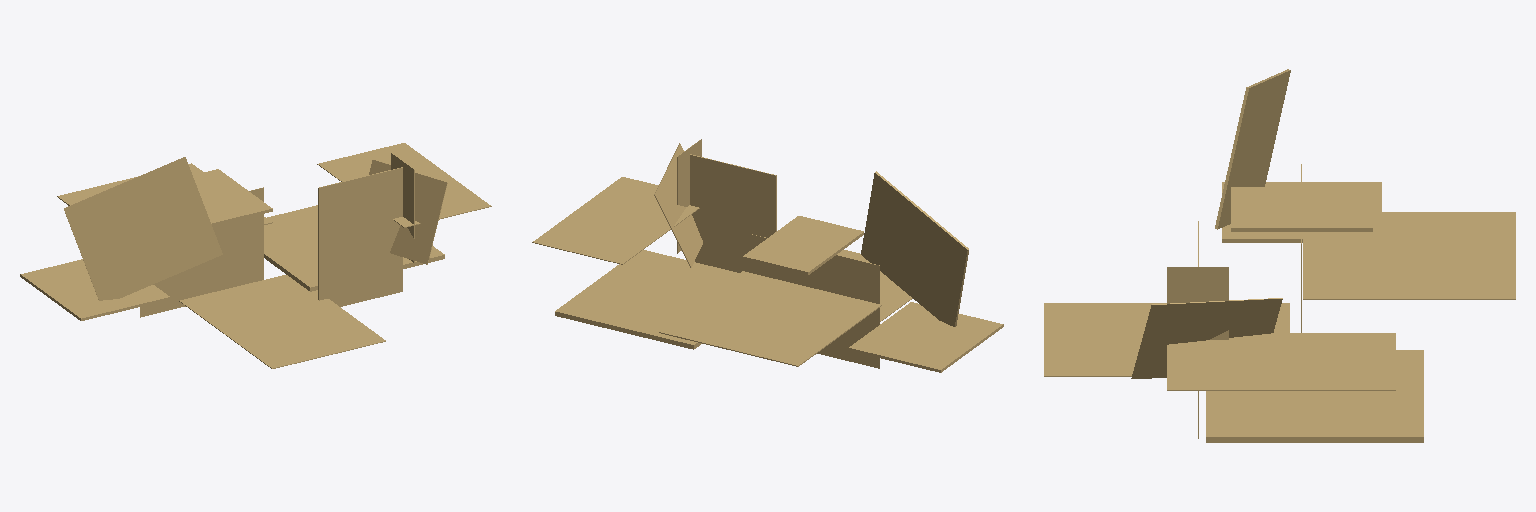
robot.urdf — evolved_design:
<?xml version="1.0" ?>
<robot name="evolved_design">
  <link name="base_link">
    <inertial>
      <mass value="0.001"/>
      <origin xyz="0 0 0" rpy="0 0 0"/>
      <inertia ixx="0.000001" ixy="0" ixz="0" iyy="0.000001" iyz="0" izz="0.000001"/>
    </inertial>
  </link>
  <link name="link_comp_0">
    <inertial>
      <mass value="0.768596"/>
      <origin xyz="0 0 0" rpy="0 0 0"/>
      <inertia ixx="0.034113626" ixy="0" ixz="0" iyy="0.017103133" iyz="0" izz="0.051215608"/>
    </inertial>
    <visual>
      <origin xyz="0 0 0" rpy="0 0 0"/>
      <geometry>
        <box size="0.516740 0.729796 0.002997"/>
      </geometry>
      <material name="link_comp_0_material">
        <color rgba="0.8 0.7 0.5 1"/>
      </material>
    </visual>
    <collision>
      <origin xyz="0 0 0" rpy="0 0 0"/>
      <geometry>
        <box size="0.516740 0.729796 0.002997"/>
      </geometry>
    </collision>
  </link>
  <joint name="base_link_to_link_comp_0" type="fixed">
    <parent link="base_link"/>
    <child link="link_comp_0"/>
    <origin xyz="0.301073 0.332235 0.048588" rpy="0.000000 0.000000 0.000000"/>
  </joint>
  <link name="link_comp_1">
    <inertial>
      <mass value="0.658332"/>
      <origin xyz="0 0 0" rpy="0 0 0"/>
      <inertia ixx="0.015854358" ixy="0" ixz="0" iyy="0.023740530" iyz="0" izz="0.007888647"/>
    </inertial>
    <visual>
      <origin xyz="0 0 0" rpy="0 0 0"/>
      <geometry>
        <box size="0.379171 0.004750 0.537558"/>
      </geometry>
      <material name="link_comp_1_material">
        <color rgba="0.8 0.7 0.5 1"/>
      </material>
    </visual>
    <collision>
      <origin xyz="0 0 0" rpy="0 0 0"/>
      <geometry>
        <box size="0.379171 0.004750 0.537558"/>
      </geometry>
    </collision>
  </link>
  <joint name="base_link_to_link_comp_1" type="fixed">
    <parent link="base_link"/>
    <child link="link_comp_1"/>
    <origin xyz="0.706825 0.424635 0.268779" rpy="0.000000 0.000000 0.000000"/>
  </joint>
  <link name="link_comp_2">
    <inertial>
      <mass value="0.521573"/>
      <origin xyz="0 0 0" rpy="0 0 0"/>
      <inertia ixx="0.008094898" ixy="0" ixz="0" iyy="0.021715280" iyz="0" izz="0.013621258"/>
    </inertial>
    <visual>
      <origin xyz="0 0 0" rpy="0 0 0"/>
      <geometry>
        <box size="0.559803 0.003175 0.431546"/>
      </geometry>
      <material name="link_comp_2_material">
        <color rgba="0.8 0.7 0.5 1"/>
      </material>
    </visual>
    <collision>
      <origin xyz="0 0 0" rpy="0 0 0"/>
      <geometry>
        <box size="0.559803 0.003175 0.431546"/>
      </geometry>
    </collision>
  </link>
  <joint name="base_link_to_link_comp_2" type="fixed">
    <parent link="base_link"/>
    <child link="link_comp_2"/>
    <origin xyz="0.166134 0.731884 0.215773" rpy="0.000000 0.000000 0.000000"/>
  </joint>
  <link name="link_comp_3">
    <inertial>
      <mass value="1.053972"/>
      <origin xyz="0 0 0" rpy="0 0 0"/>
      <inertia ixx="0.015850476" ixy="0" ixz="0" iyy="0.007269775" iyz="0" izz="0.023091918"/>
    </inertial>
    <visual>
      <origin xyz="0 0 0" rpy="0 0 0"/>
      <geometry>
        <box size="0.287417 0.424623 0.012700"/>
      </geometry>
      <material name="link_comp_3_material">
        <color rgba="0.8 0.7 0.5 1"/>
      </material>
    </visual>
    <collision>
      <origin xyz="0 0 0" rpy="0 0 0"/>
      <geometry>
        <box size="0.287417 0.424623 0.012700"/>
      </geometry>
    </collision>
  </link>
  <joint name="base_link_to_link_comp_3" type="fixed">
    <parent link="base_link"/>
    <child link="link_comp_3"/>
    <origin xyz="0.220309 0.732444 0.438396" rpy="0.000000 0.000000 0.000000"/>
  </joint>
  <link name="link_comp_4">
    <inertial>
      <mass value="0.102988"/>
      <origin xyz="0 0 0" rpy="0 0 0"/>
      <inertia ixx="0.001696381" ixy="0" ixz="0" iyy="0.001405224" iyz="0" izz="0.000291228"/>
    </inertial>
    <visual>
      <origin xyz="0 0 0" rpy="0 0 0"/>
      <geometry>
        <box size="0.002032 0.184199 0.404636"/>
      </geometry>
      <material name="link_comp_4_material">
        <color rgba="0.8 0.7 0.5 1"/>
      </material>
    </visual>
    <collision>
      <origin xyz="0 0 0" rpy="0 0 0"/>
      <geometry>
        <box size="0.002032 0.184199 0.404636"/>
      </geometry>
    </collision>
  </link>
  <joint name="base_link_to_link_comp_4" type="fixed">
    <parent link="base_link"/>
    <child link="link_comp_4"/>
    <origin xyz="0.897927 0.424789 0.362100" rpy="0.000000 0.000000 0.000000"/>
  </joint>
  <link name="link_comp_5">
    <inertial>
      <mass value="1.179324"/>
      <origin xyz="0 0 0" rpy="0 0 0"/>
      <inertia ixx="0.039356623" ixy="0" ixz="0" iyy="0.036522899" iyz="0" izz="0.075875550"/>
    </inertial>
    <visual>
      <origin xyz="0 0 0" rpy="0 0 0"/>
      <geometry>
        <box size="0.609600 0.632808 0.004496"/>
      </geometry>
      <material name="link_comp_5_material">
        <color rgba="0.8 0.7 0.5 1"/>
      </material>
    </visual>
    <collision>
      <origin xyz="0 0 0" rpy="0 0 0"/>
      <geometry>
        <box size="0.609600 0.632808 0.004496"/>
      </geometry>
    </collision>
  </link>
  <joint name="base_link_to_link_comp_5" type="fixed">
    <parent link="base_link"/>
    <child link="link_comp_5"/>
    <origin xyz="0.181850 1.050376 0.267793" rpy="0.000000 0.000000 0.000000"/>
  </joint>
  <link name="link_comp_6">
    <inertial>
      <mass value="1.564937"/>
      <origin xyz="0 0 0" rpy="0 0 0"/>
      <inertia ixx="0.029473396" ixy="0" ixz="0" iyy="0.021295327" iyz="0" izz="0.050731235"/>
    </inertial>
    <visual>
      <origin xyz="0 0 0" rpy="0 0 0"/>
      <geometry>
        <box size="0.403918 0.475247 0.011989"/>
      </geometry>
      <material name="link_comp_6_material">
        <color rgba="0.8 0.7 0.5 1"/>
      </material>
    </visual>
    <collision>
      <origin xyz="0 0 0" rpy="0 0 0"/>
      <geometry>
        <box size="0.403918 0.475247 0.011989"/>
      </geometry>
    </collision>
  </link>
  <joint name="base_link_to_link_comp_6" type="fixed">
    <parent link="base_link"/>
    <child link="link_comp_6"/>
    <origin xyz="-0.316227 0.732447 0.178403" rpy="0.000000 0.000000 0.000000"/>
  </joint>
  <link name="link_comp_7">
    <inertial>
      <mass value="0.291925"/>
      <origin xyz="0 0 0" rpy="0 0 0"/>
      <inertia ixx="0.006711573" ixy="0" ixz="0" iyy="0.002691589" iyz="0" izz="0.004020474"/>
    </inertial>
    <visual>
      <origin xyz="0 0 0" rpy="0 0 0"/>
      <geometry>
        <box size="0.003175 0.406518 0.332613"/>
      </geometry>
      <material name="link_comp_7_material">
        <color rgba="0.8 0.7 0.5 1"/>
      </material>
    </visual>
    <collision>
      <origin xyz="0 0 0" rpy="0 0 0"/>
      <geometry>
        <box size="0.003175 0.406518 0.332613"/>
      </geometry>
    </collision>
  </link>
  <joint name="base_link_to_link_comp_7" type="fixed">
    <parent link="base_link"/>
    <child link="link_comp_7"/>
    <origin xyz="0.901031 0.450417 0.332163" rpy="-0.083462 0.424613 0.249538"/>
  </joint>
  <link name="link_comp_8">
    <inertial>
      <mass value="0.557433"/>
      <origin xyz="0 0 0" rpy="0 0 0"/>
      <inertia ixx="0.021551886" ixy="0" ixz="0" iyy="0.007242874" iyz="0" izz="0.028793897"/>
    </inertial>
    <visual>
      <origin xyz="0 0 0" rpy="0 0 0"/>
      <geometry>
        <box size="0.394854 0.681134 0.003048"/>
      </geometry>
      <material name="link_comp_8_material">
        <color rgba="0.8 0.7 0.5 1"/>
      </material>
    </visual>
    <collision>
      <origin xyz="0 0 0" rpy="0 0 0"/>
      <geometry>
        <box size="0.394854 0.681134 0.003048"/>
      </geometry>
    </collision>
  </link>
  <joint name="base_link_to_link_comp_8" type="fixed">
    <parent link="base_link"/>
    <child link="link_comp_8"/>
    <origin xyz="1.048575 0.672252 0.324326" rpy="0.000000 0.000000 0.000000"/>
  </joint>
  <link name="link_comp_9">
    <inertial>
      <mass value="1.472869"/>
      <origin xyz="0 0 0" rpy="0 0 0"/>
      <inertia ixx="0.023343887" ixy="0" ixz="0" iyy="0.056719942" iyz="0" izz="0.033398327"/>
    </inertial>
    <visual>
      <origin xyz="0 0 0" rpy="0 0 0"/>
      <geometry>
        <box size="0.521553 0.009525 0.436005"/>
      </geometry>
      <material name="link_comp_9_material">
        <color rgba="0.8 0.7 0.5 1"/>
      </material>
    </visual>
    <collision>
      <origin xyz="0 0 0" rpy="0 0 0"/>
      <geometry>
        <box size="0.521553 0.009525 0.436005"/>
      </geometry>
    </collision>
  </link>
  <joint name="base_link_to_link_comp_9" type="fixed">
    <parent link="base_link"/>
    <child link="link_comp_9"/>
    <origin xyz="-0.183874 0.586297 0.446303" rpy="-0.142828 -0.318680 -0.253977"/>
  </joint>
  <link name="link_comp_10">
    <inertial>
      <mass value="5.114124"/>
      <origin xyz="0 0 0" rpy="0 0 0"/>
      <inertia ixx="0.178900023" ixy="0" ixz="0" iyy="0.158527212" iyz="0" izz="0.337117914"/>
    </inertial>
    <visual>
      <origin xyz="0 0 0" rpy="0 0 0"/>
      <geometry>
        <box size="0.609600 0.647623 0.019050"/>
      </geometry>
      <material name="link_comp_10_material">
        <color rgba="0.8 0.7 0.5 1"/>
      </material>
    </visual>
    <collision>
      <origin xyz="0 0 0" rpy="0 0 0"/>
      <geometry>
        <box size="0.609600 0.647623 0.019050"/>
      </geometry>
    </collision>
  </link>
  <joint name="base_link_to_link_comp_10" type="fixed">
    <parent link="base_link"/>
    <child link="link_comp_10"/>
    <origin xyz="0.796435 0.770107 0.093605" rpy="0.000000 0.000000 0.000000"/>
  </joint>
</robot>

--- What the picture shows (computed from the rendered views, not written in the file) ---
Views: 3 orthographic renders of the robot side by side, from view 1: azimuth 30°, elevation 25°; view 2: azimuth 150°, elevation 25°; view 3: azimuth 270°, elevation 25°.
Model evolved_design with 12 links and 11 joints (11 fixed), rooted at base_link, posed all joints at 0.
Links seen in each view (by area): view 1: link_comp_9, link_comp_0, link_comp_1, link_comp_2, link_comp_10, link_comp_6, link_comp_8, link_comp_7, link_comp_3, link_comp_4, link_comp_5; view 2: link_comp_5, link_comp_9, link_comp_10, link_comp_1, link_comp_8, link_comp_6, link_comp_2, link_comp_3, link_comp_7, link_comp_0, link_comp_4; view 3: link_comp_5, link_comp_8, link_comp_10, link_comp_0, link_comp_3, link_comp_7, link_comp_9, link_comp_4, link_comp_6.
Boxes of the visible links, x1,y1,x2,y2 form: link_comp_9: (64,157,222,300); link_comp_0: (179,275,385,368); link_comp_1: (318,167,402,306); link_comp_2: (140,187,263,317); link_comp_10: (264,205,444,291); link_comp_6: (20,259,169,320); link_comp_8: (317,143,491,227); link_comp_7: (369,160,447,264); link_comp_3: (193,169,272,225); link_comp_4: (391,153,414,262); link_comp_5: (57,163,272,224); link_comp_5: (659,271,881,366); link_comp_9: (861,171,968,326); link_comp_10: (555,250,738,349); link_comp_1: (690,154,776,272); link_comp_8: (532,177,699,264); link_comp_6: (849,302,1003,372); link_comp_2: (752,234,879,368); link_comp_3: (743,216,863,274); link_comp_7: (654,143,702,267); link_comp_0: (837,250,912,321); link_comp_4: (677,139,701,253); link_comp_5: (1303,212,1515,299); link_comp_8: (1167,333,1395,390); link_comp_10: (1206,350,1423,442); link_comp_0: (1044,303,1289,376); link_comp_3: (1231,187,1372,231); link_comp_7: (1131,298,1282,378); link_comp_9: (1215,69,1290,229); link_comp_4: (1167,267,1228,339); link_comp_6: (1222,182,1381,242).
Size in the robot's own frame: 1.76 by 1.4 by 0.7336 metres.
Geometry: primitives only (box / cylinder / sphere), no mesh files.